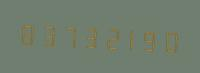eight: (17, 15, 36, 49)
nine: (137, 21, 156, 55)
one: (117, 20, 136, 54)
seven: (57, 17, 76, 51)
three: (37, 16, 56, 50), (77, 18, 96, 52)
two: (97, 19, 116, 53)
zero: (157, 23, 176, 56)
